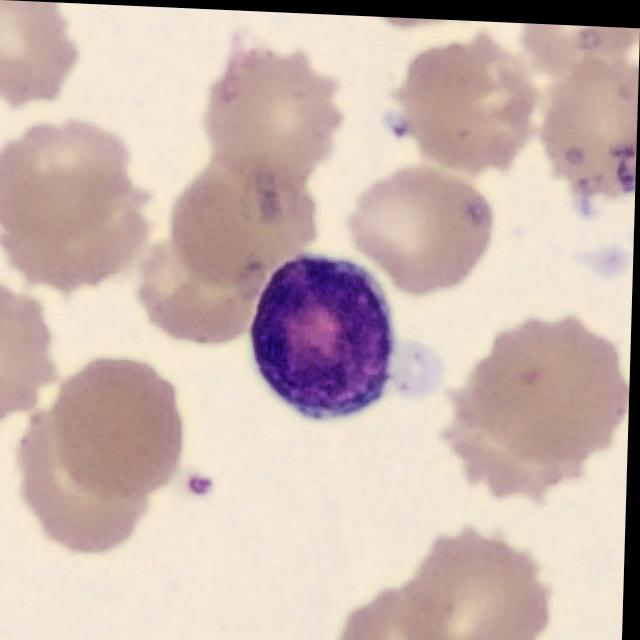Linfocito: (250, 251, 395, 416)
